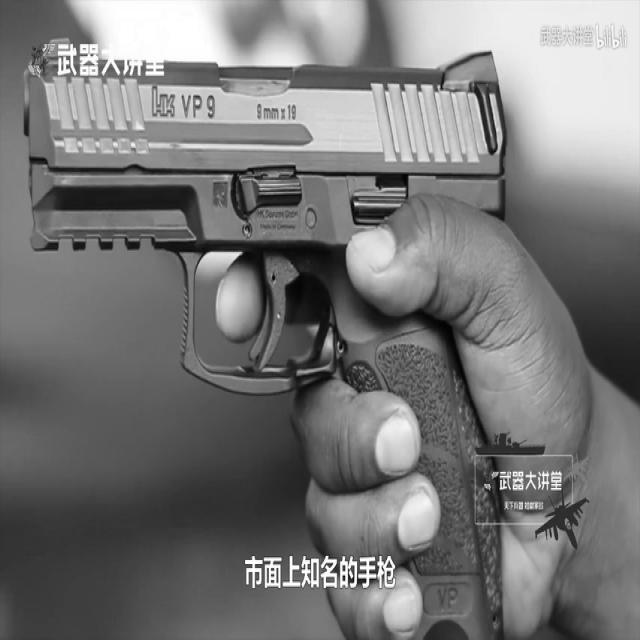Hand-Gun: (16, 33, 526, 640)
